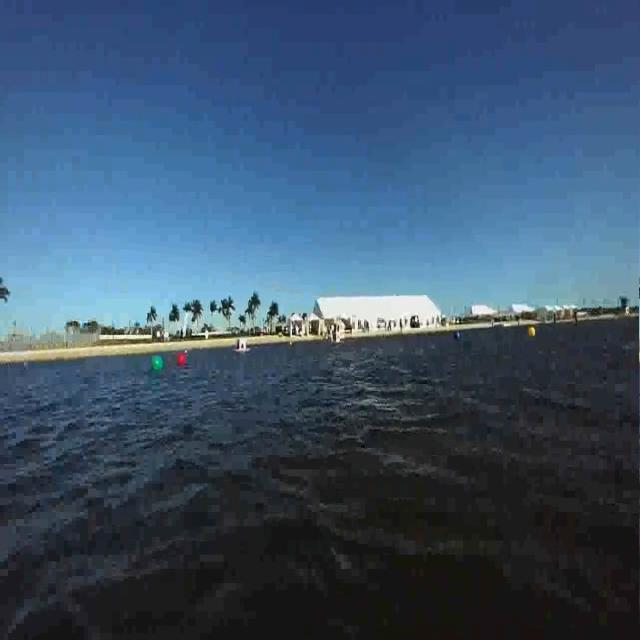green-buoy: (151, 354, 162, 370)
yellow-buoy: (528, 324, 537, 338)
